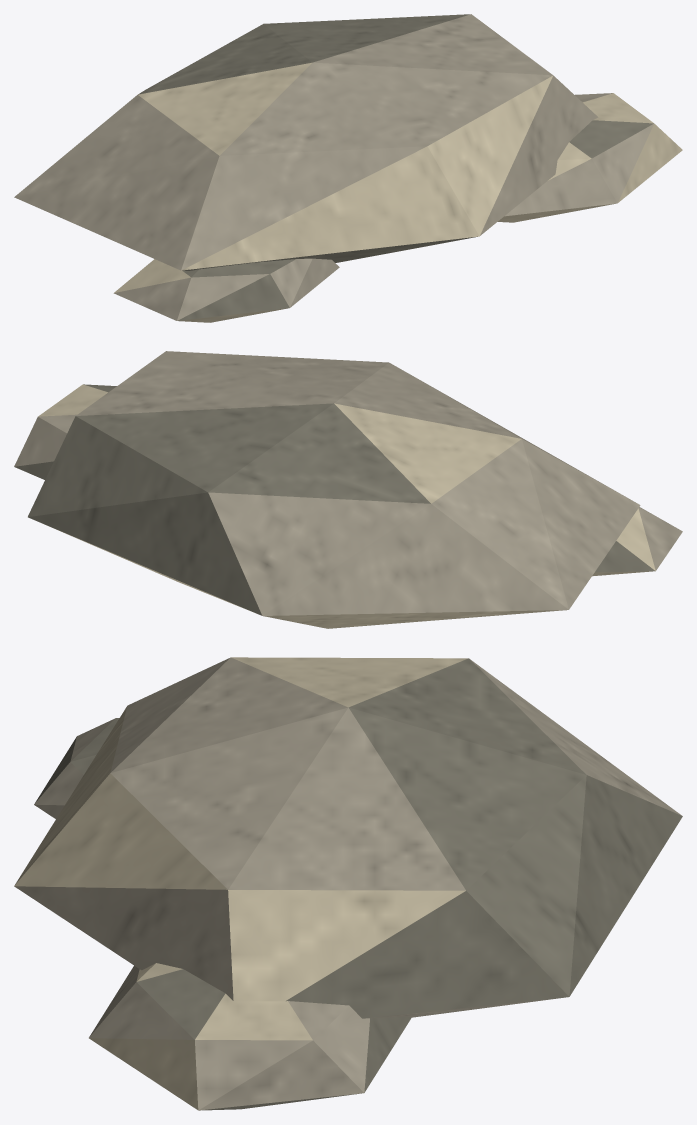
File: laja.glb
The picture shows the model from 3 angles, top to bottom: view 1: azimuth 30°, elevation 25°; view 2: azimuth 150°, elevation 25°; view 3: azimuth 270°, elevation 25°; orthographic projection. The views are drawn at different scales.
Visible parts, largest first — view 1: laja; view 2: laja; view 3: laja.
Part boxes in pixels (left/top/right/bottom): laja: left=14, top=14, right=682, bottom=322; laja: left=14, top=351, right=682, bottom=628; laja: left=14, top=657, right=682, bottom=1110.
Bounding box in the file's own units: 3.05 × 0.7685 × 2.14.
Materials: 1 (1 with a texture image).
